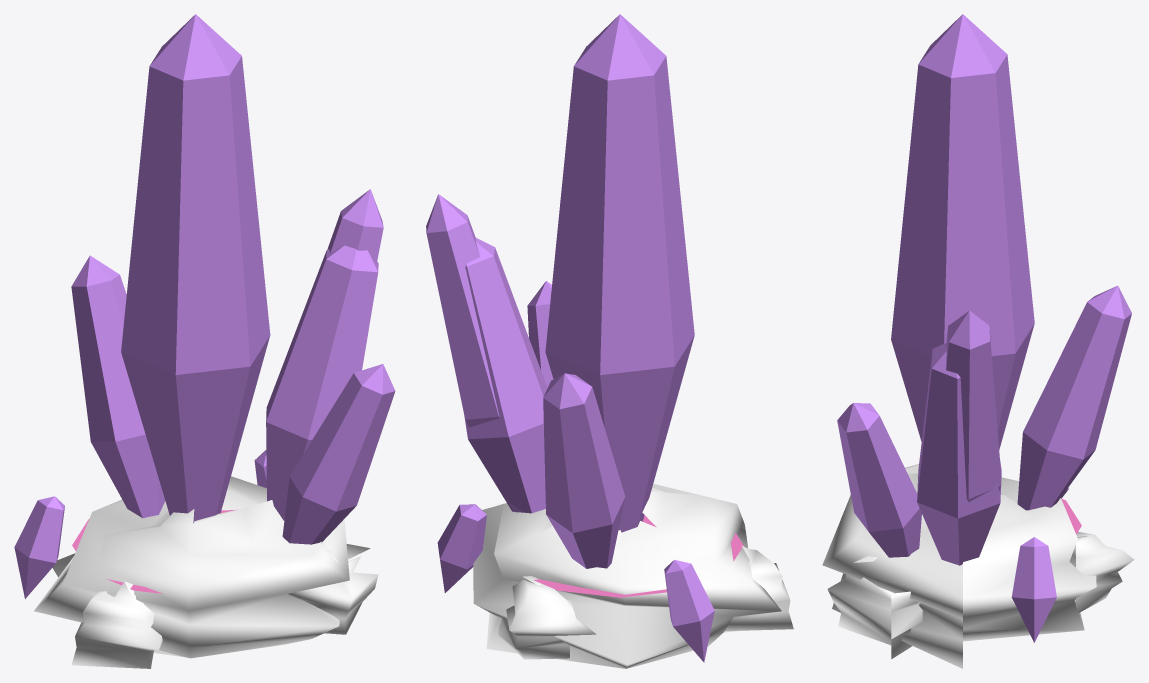
The model's file is ChaosCrystal.glb.
3 views of the same model, side by side, from view 1: azimuth 30°, elevation 25°; view 2: azimuth 150°, elevation 25°; view 3: azimuth 270°, elevation 25° (orthographic). The views are drawn at different scales.
Visible parts, largest first — view 1: Crystal, Body; view 2: Crystal, Body, Core; view 3: Crystal, Body.
Boxes of the visible parts, box(x1,y1,x2,y2) form: Crystal: box(14, 14, 395, 598); Body: box(34, 476, 378, 668); Crystal: box(426, 14, 714, 662); Body: box(473, 483, 793, 668); Core: box(533, 515, 743, 597); Crystal: box(837, 14, 1131, 642); Body: box(822, 464, 1134, 668).
Size of the model in its own units: 6.58 by 10.9 by 5.25.
